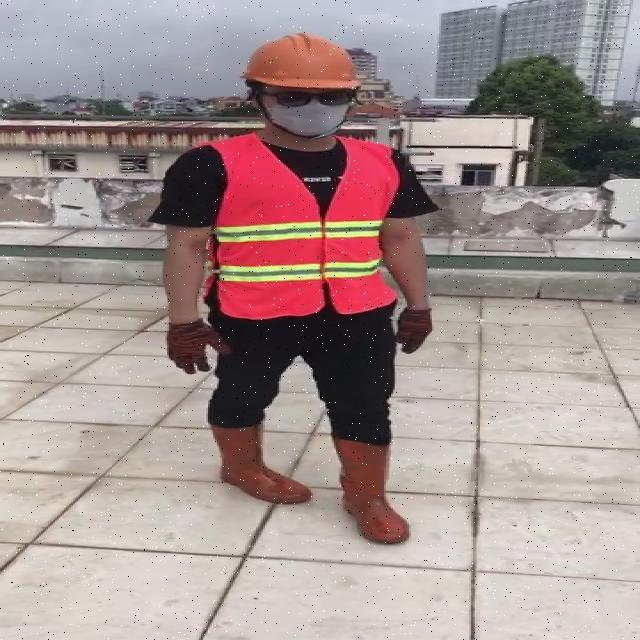Hard_hat: (235, 32, 366, 104)
Vest: (208, 131, 391, 321)
